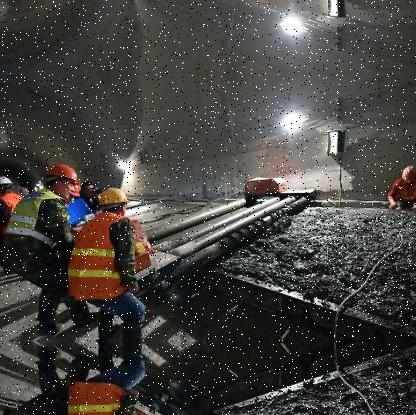helmet: (40, 162, 79, 199), (95, 186, 128, 218), (399, 160, 414, 188), (0, 170, 11, 193)
